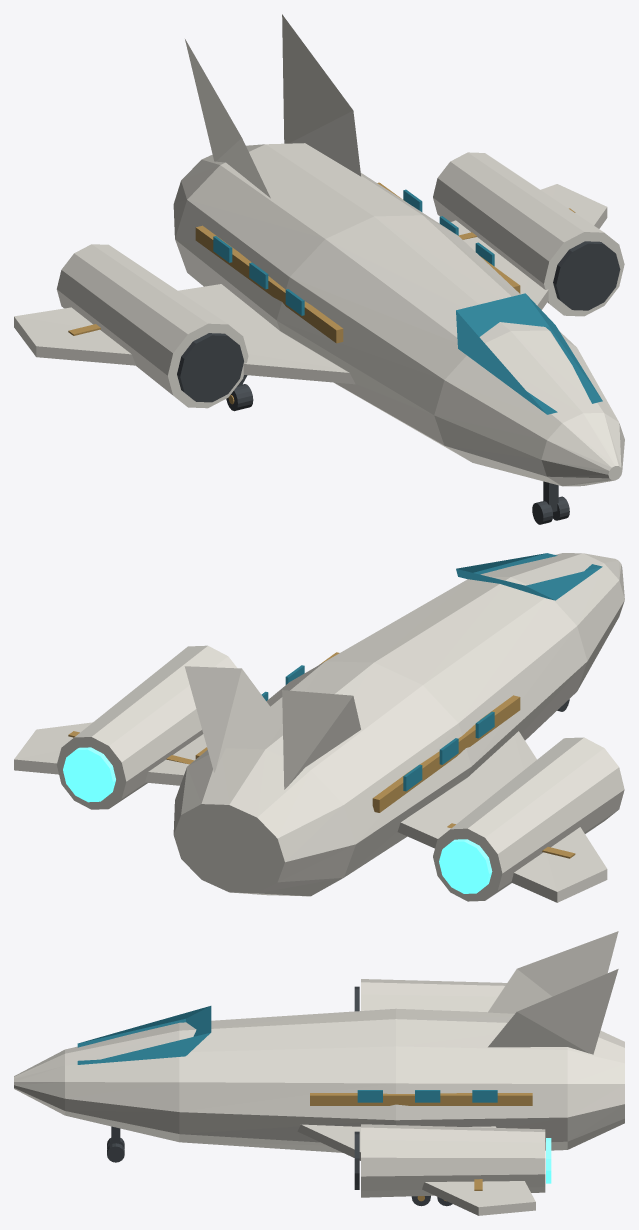
Rendered from Royal.glb.
3 renders of one model, top to bottom at view 1: azimuth 30°, elevation 25°; view 2: azimuth 150°, elevation 25°; view 3: azimuth 270°, elevation 25°, orthographic. The views are drawn at different scales.
Visible parts, largest first — view 1: GW Ivory, GW Metal, GW Glass Dark, GW Gold; view 2: GW Ivory, GW Light, GW Glass Dark, GW Gold; view 3: GW Ivory, GW Glass Dark, GW Gold, GW Metal.
Part boxes in pixels (x1,y1,x2,y2): GW Ivory: [14, 14, 624, 486]; GW Metal: [177, 241, 620, 524]; GW Glass Dark: [213, 189, 602, 414]; GW Gold: [68, 182, 575, 404]; GW Ivory: [14, 553, 624, 902]; GW Light: [63, 747, 492, 893]; GW Glass Dark: [261, 553, 602, 791]; GW Gold: [68, 652, 575, 858]; GW Ivory: [14, 931, 624, 1215]; GW Glass Dark: [77, 1006, 497, 1102]; GW Gold: [310, 1093, 532, 1201]; GW Metal: [107, 986, 452, 1206].
Size of the model in its own units: 42.64 by 18.72 by 49.92.
